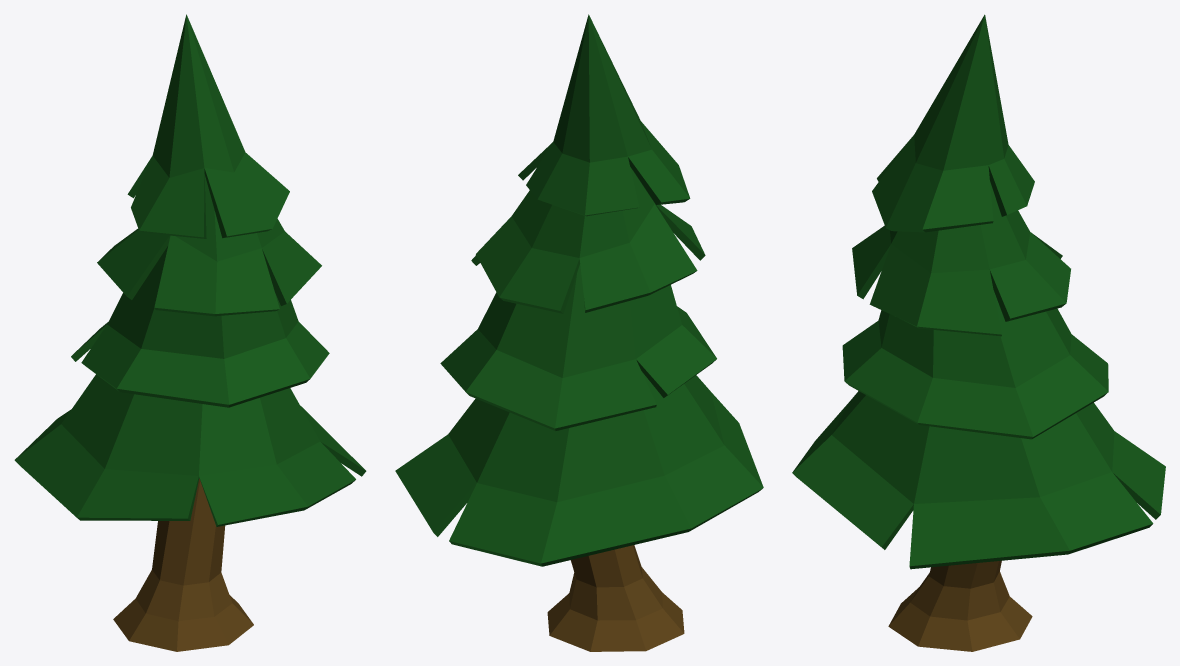
Rendered from Tree-2.fbx.
The picture shows the model from 3 angles, left to right: view 1: azimuth 30°, elevation 25°; view 2: azimuth 150°, elevation 25°; view 3: azimuth 270°, elevation 25°; orthographic projection. The views are drawn at different scales.
Parts seen in each view (by area): view 1: Tree-2; view 2: Tree-2; view 3: Tree-2.
Boxes of the visible parts, x1,y1,x2,y2 form: Tree-2: (14, 14, 366, 651); Tree-2: (395, 14, 763, 651); Tree-2: (792, 14, 1165, 651).
Size of the model in its own units: 8.88 by 17.65 by 9.73.
